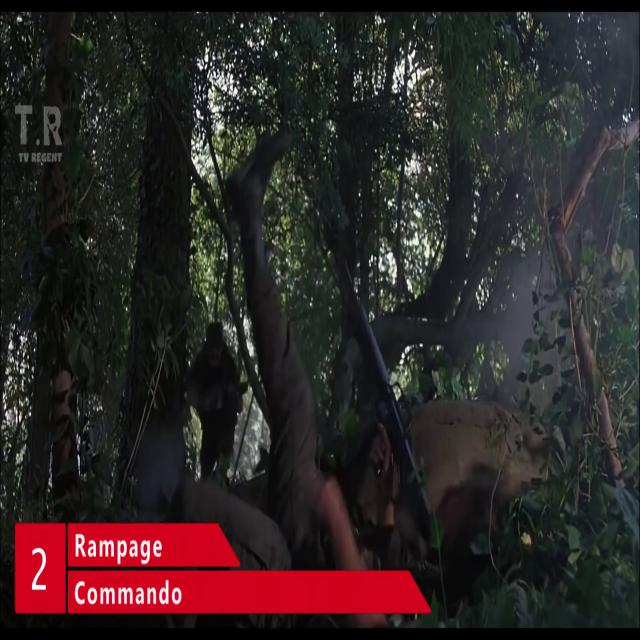long weapon: (318, 193, 448, 542)
